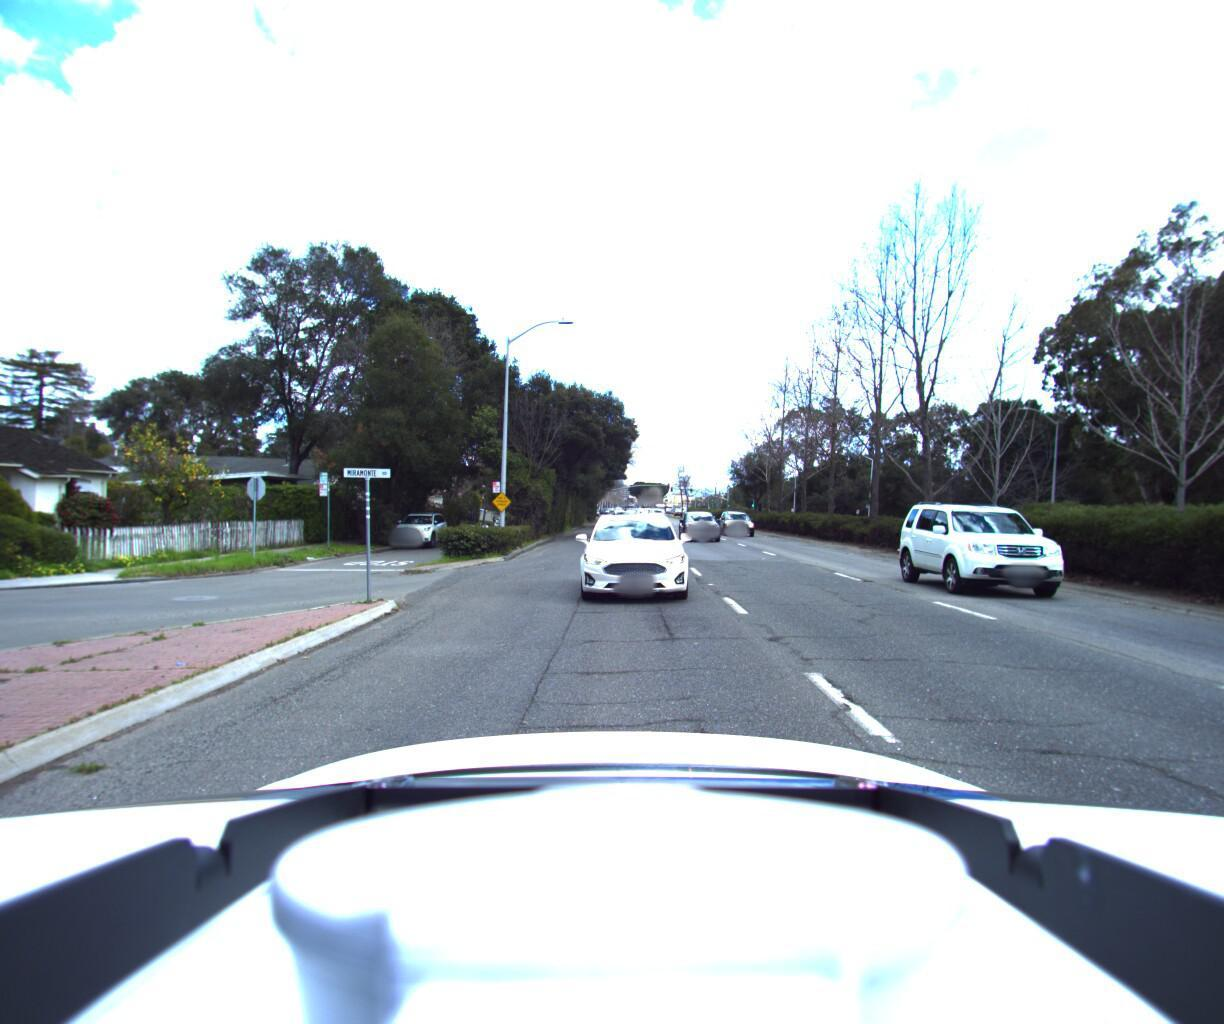car: (901, 496, 1129, 613), (562, 507, 705, 623), (388, 513, 451, 551), (678, 511, 727, 547), (717, 510, 759, 540), (614, 507, 640, 529)
